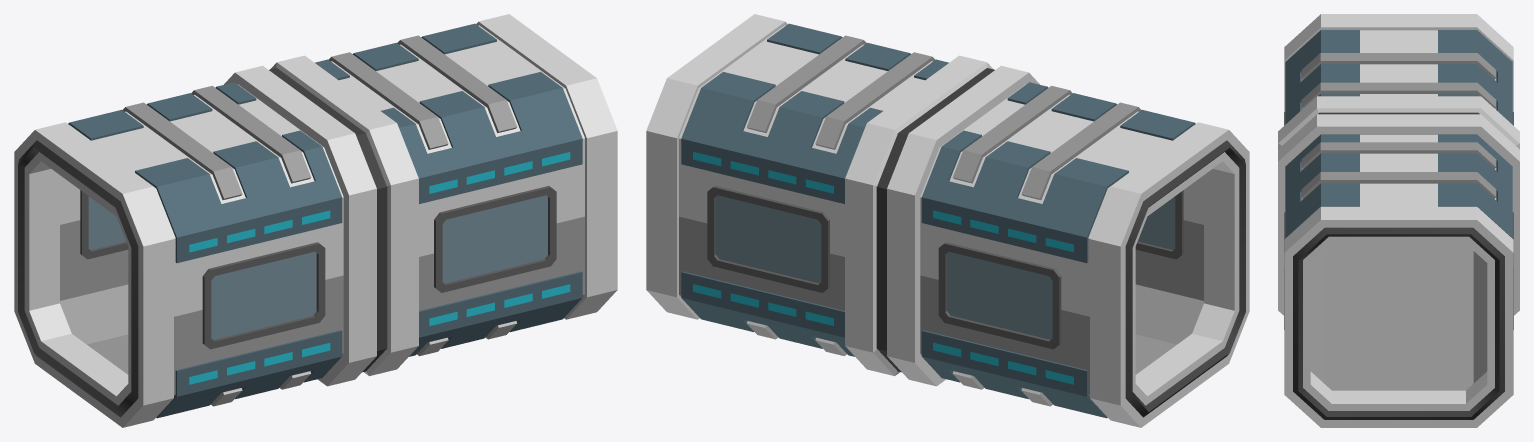
File: section_001.fbx
3 renders of one model, left to right at view 1: azimuth 30°, elevation 25°; view 2: azimuth 150°, elevation 25°; view 3: azimuth 270°, elevation 25°, orthographic. The views are drawn at different scales.
Visible parts, largest first — view 1: section_001; view 2: section_001; view 3: section_001.
Part boxes in pixels (x1,y1,x2,y2): section_001: (14,14,617,427); section_001: (646,14,1249,427); section_001: (1278,14,1519,427).
Size of the model in its own units: 703 by 343 by 343.
